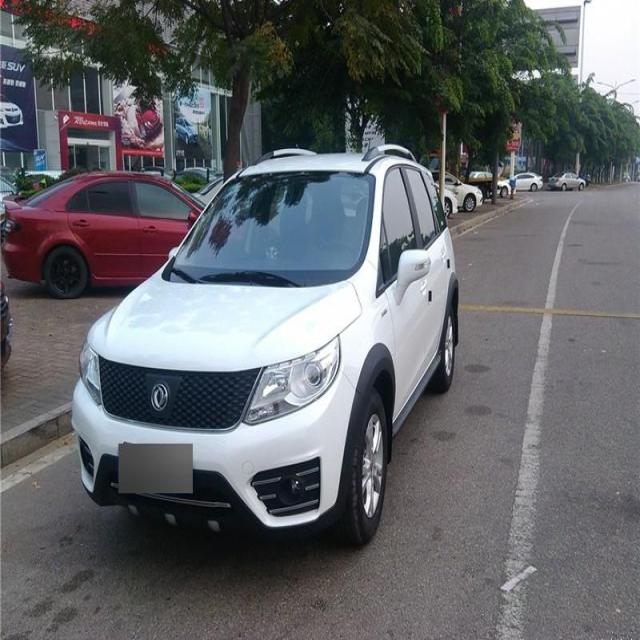front_bumper: (70, 377, 354, 532)
front_glass: (163, 168, 378, 288)
front_left_side_door: (372, 161, 432, 428)
front_left_side_light: (242, 333, 342, 424)
front_left_side_mirror: (392, 243, 430, 301)
front_right_side_light: (78, 337, 104, 408)
wheel: (332, 387, 386, 545), (425, 297, 455, 398)
